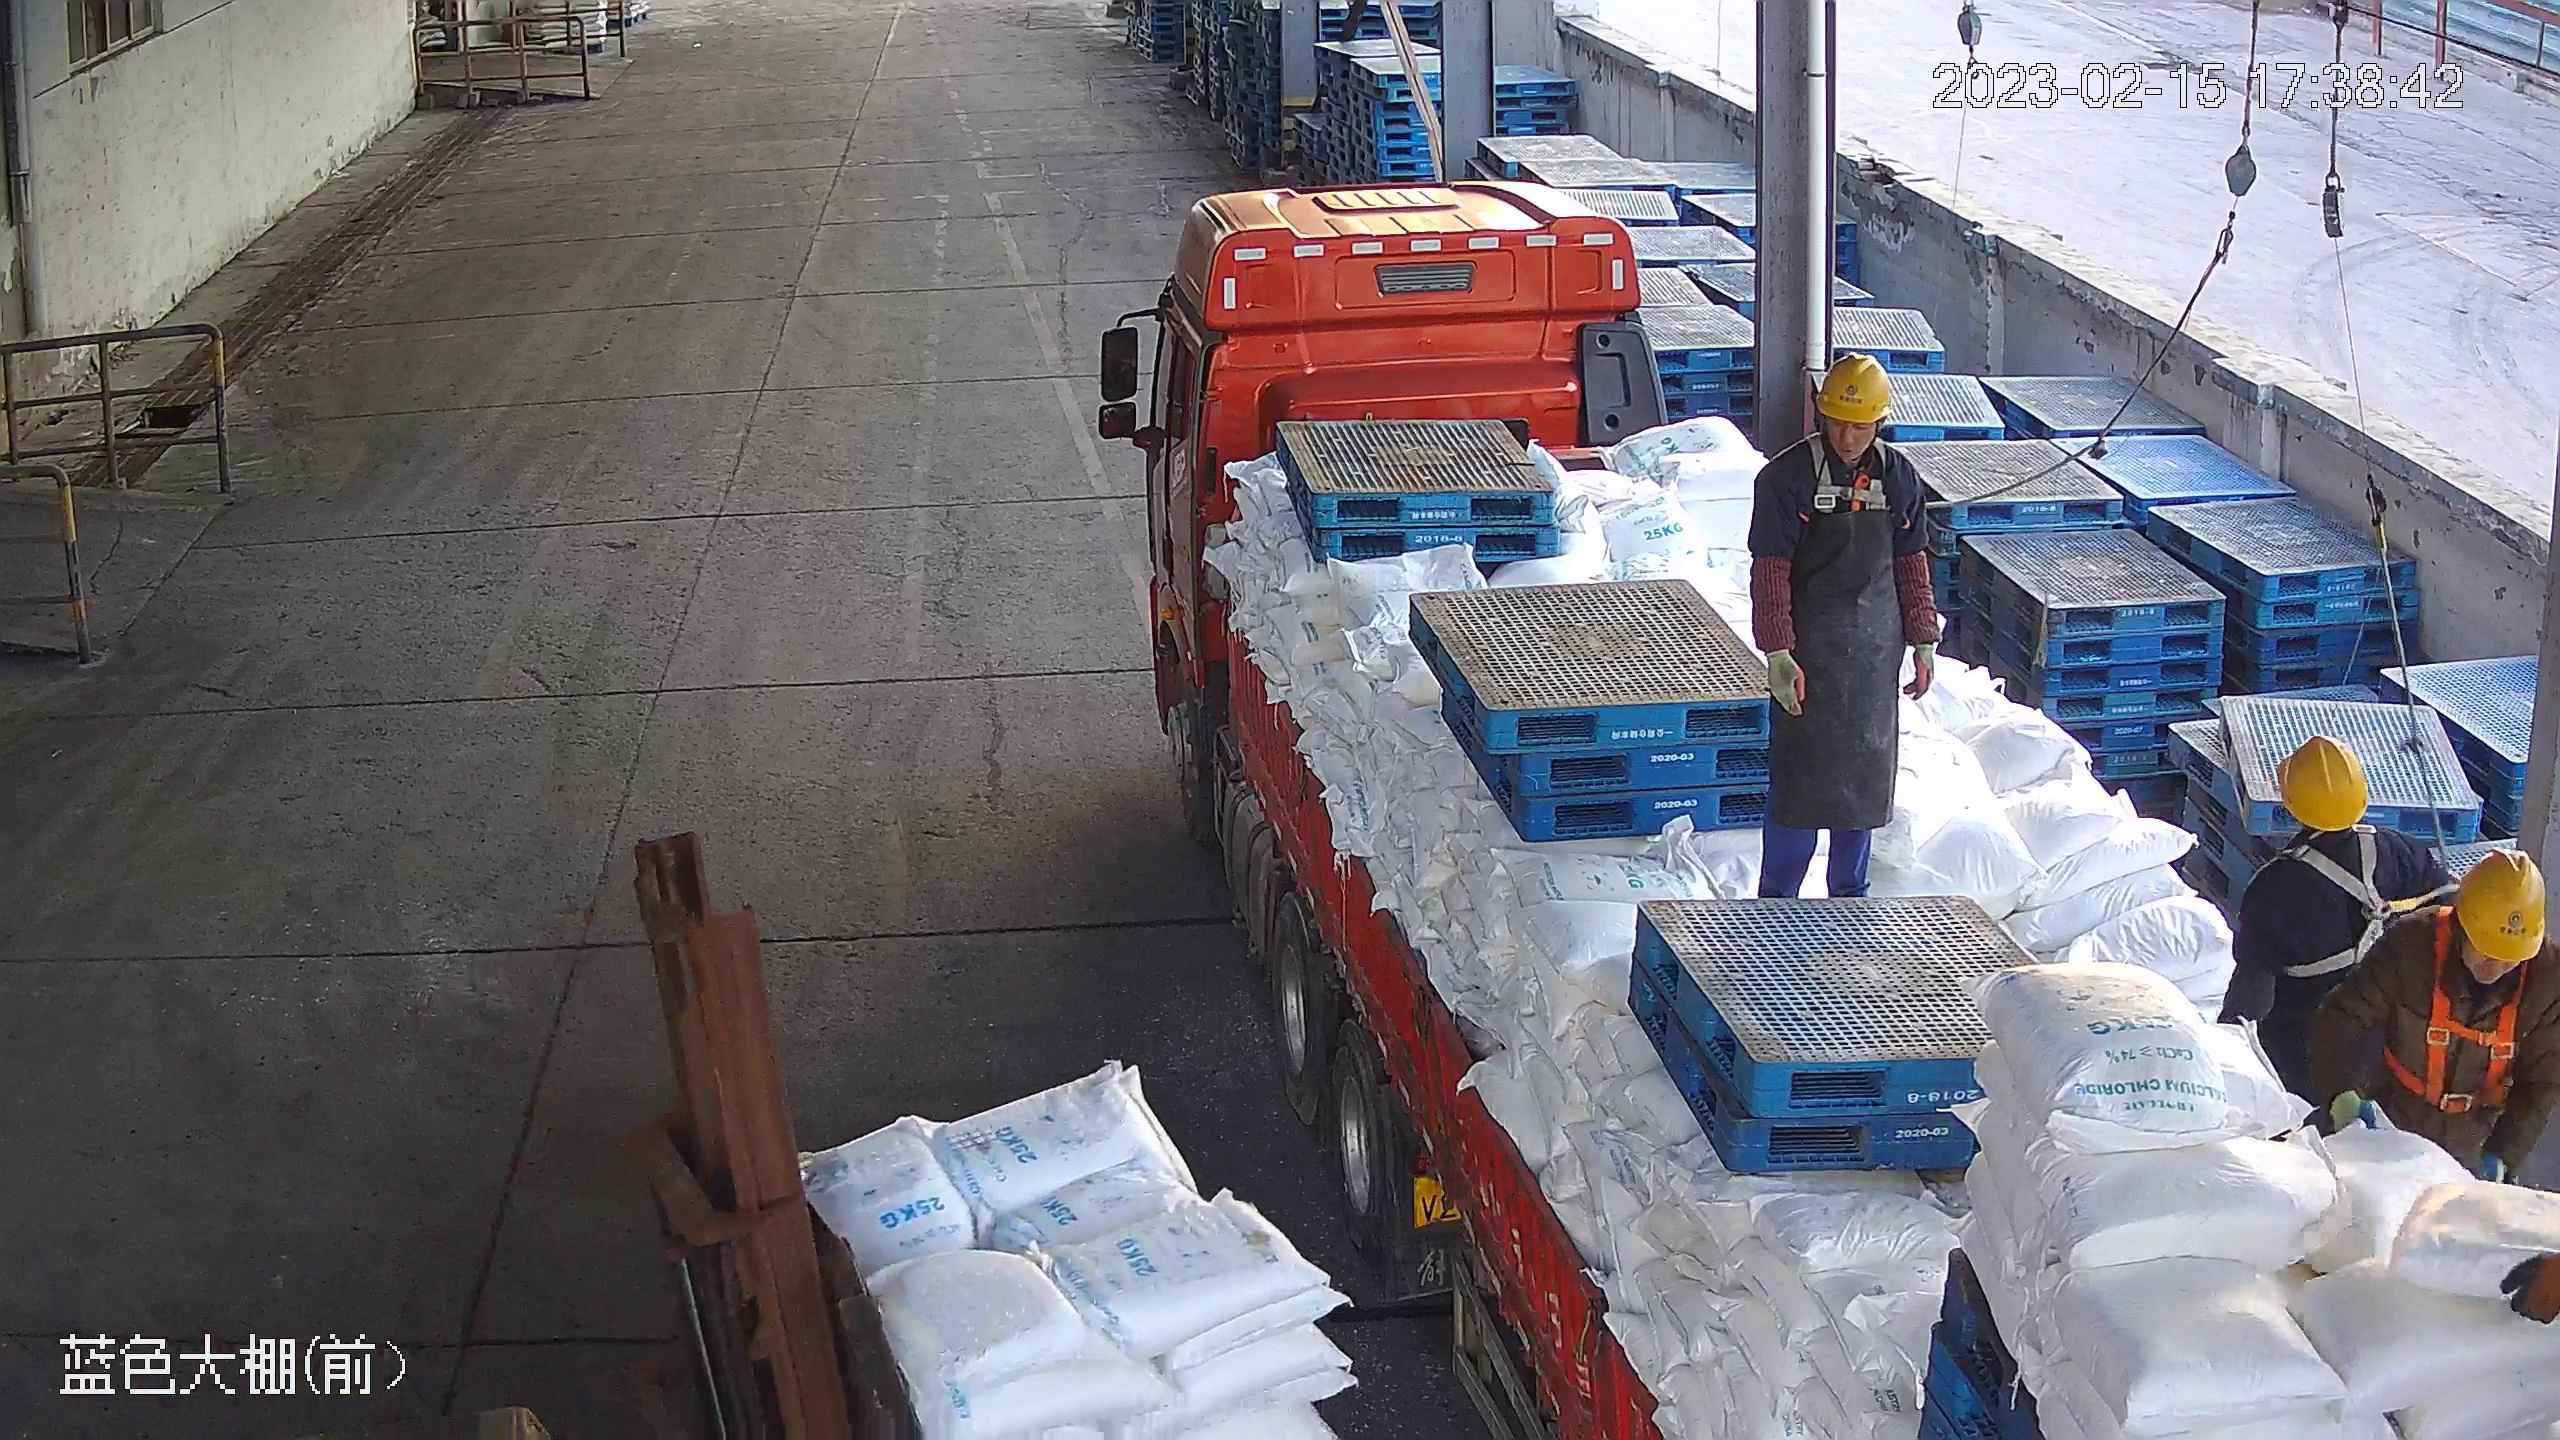belt: (2283, 848, 2427, 979), (2402, 981, 2537, 1116), (1804, 453, 1895, 515)
head: (2399, 851, 2560, 995), (1772, 353, 1923, 501), (2269, 741, 2421, 886)
helmet: (2460, 850, 2548, 960), (2279, 739, 2374, 822), (1821, 346, 1895, 423)
people: (1746, 355, 1941, 904)
truck: (1099, 178, 2560, 1440)
